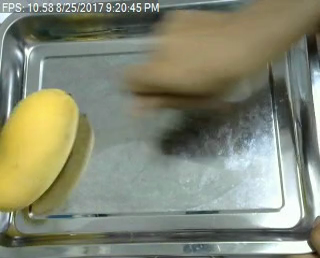Mango: (0, 87, 82, 211)
